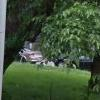Tree: (42, 2, 98, 65)
